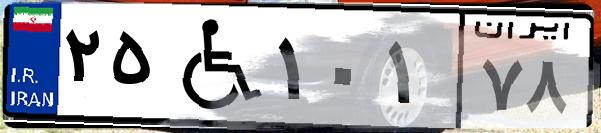0: (330, 28, 385, 110)
1: (270, 28, 330, 110), (385, 28, 445, 110)
2: (57, 26, 110, 100)
5: (110, 28, 158, 98)
7: (475, 38, 525, 113)
8: (525, 38, 570, 115)
ژ (معلولین و جانبازان): (158, 12, 270, 120)
